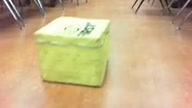cube: (34, 16, 110, 88)
